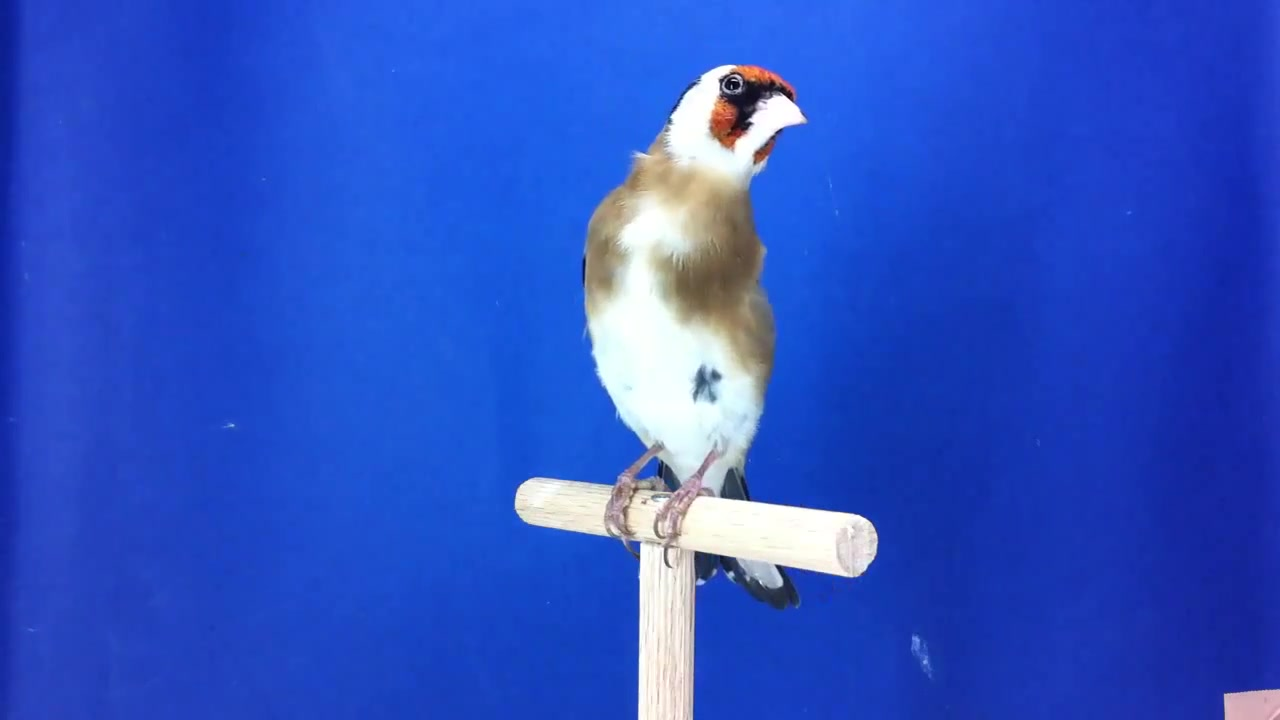bird: (584, 63, 811, 612)
